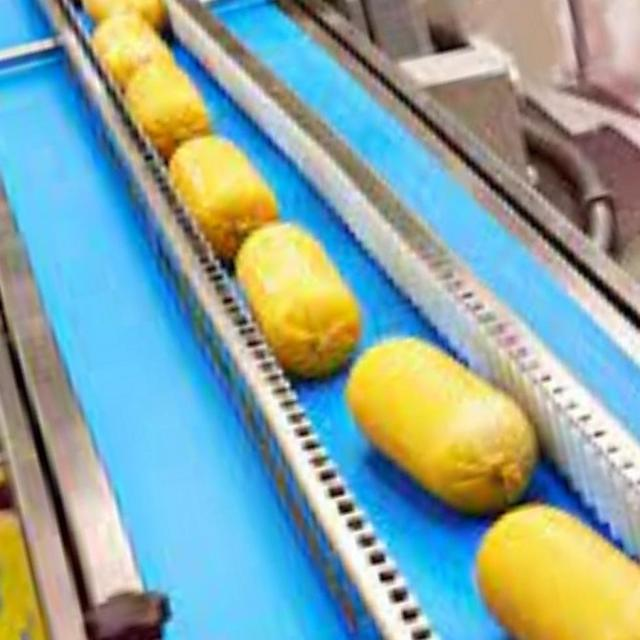food: (343, 334, 540, 516), (473, 500, 639, 640), (232, 219, 362, 380), (165, 132, 279, 261)
